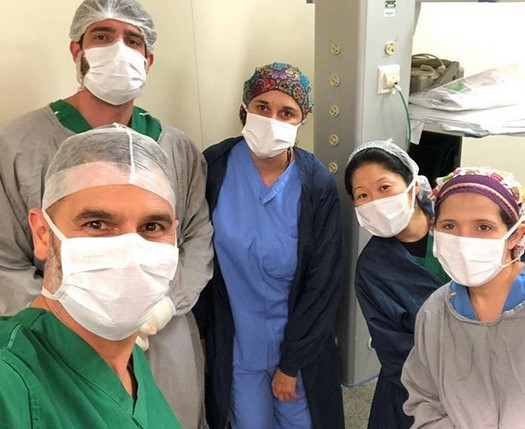face_with_mask: (29, 130, 178, 340), (430, 175, 525, 291), (66, 0, 157, 107), (343, 139, 419, 239), (239, 66, 314, 159)
